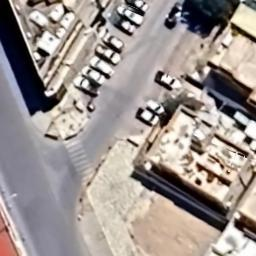SUV: (101, 30, 126, 54)
pickup: (72, 71, 102, 99), (94, 42, 122, 66), (110, 14, 138, 36)
sedan: (86, 56, 118, 80), (154, 66, 182, 92), (115, 4, 146, 26), (79, 63, 108, 86), (132, 108, 162, 128), (164, 2, 184, 32), (122, 0, 154, 12)
van: (146, 97, 166, 117)
